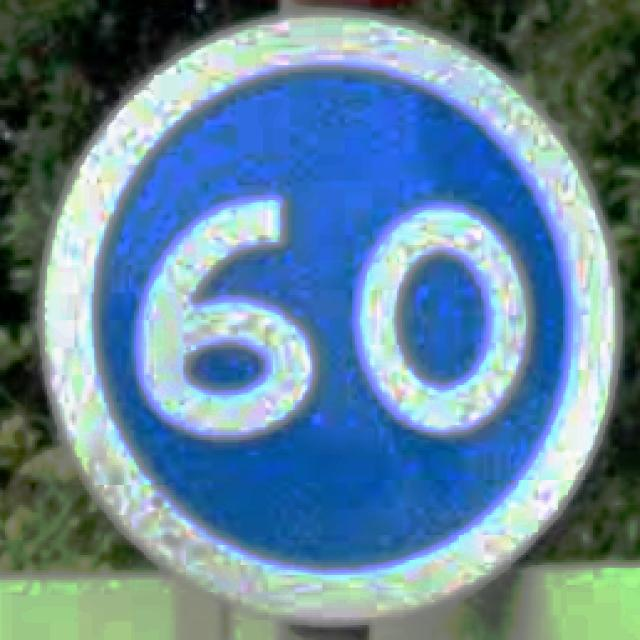min60: (35, 5, 622, 623)
